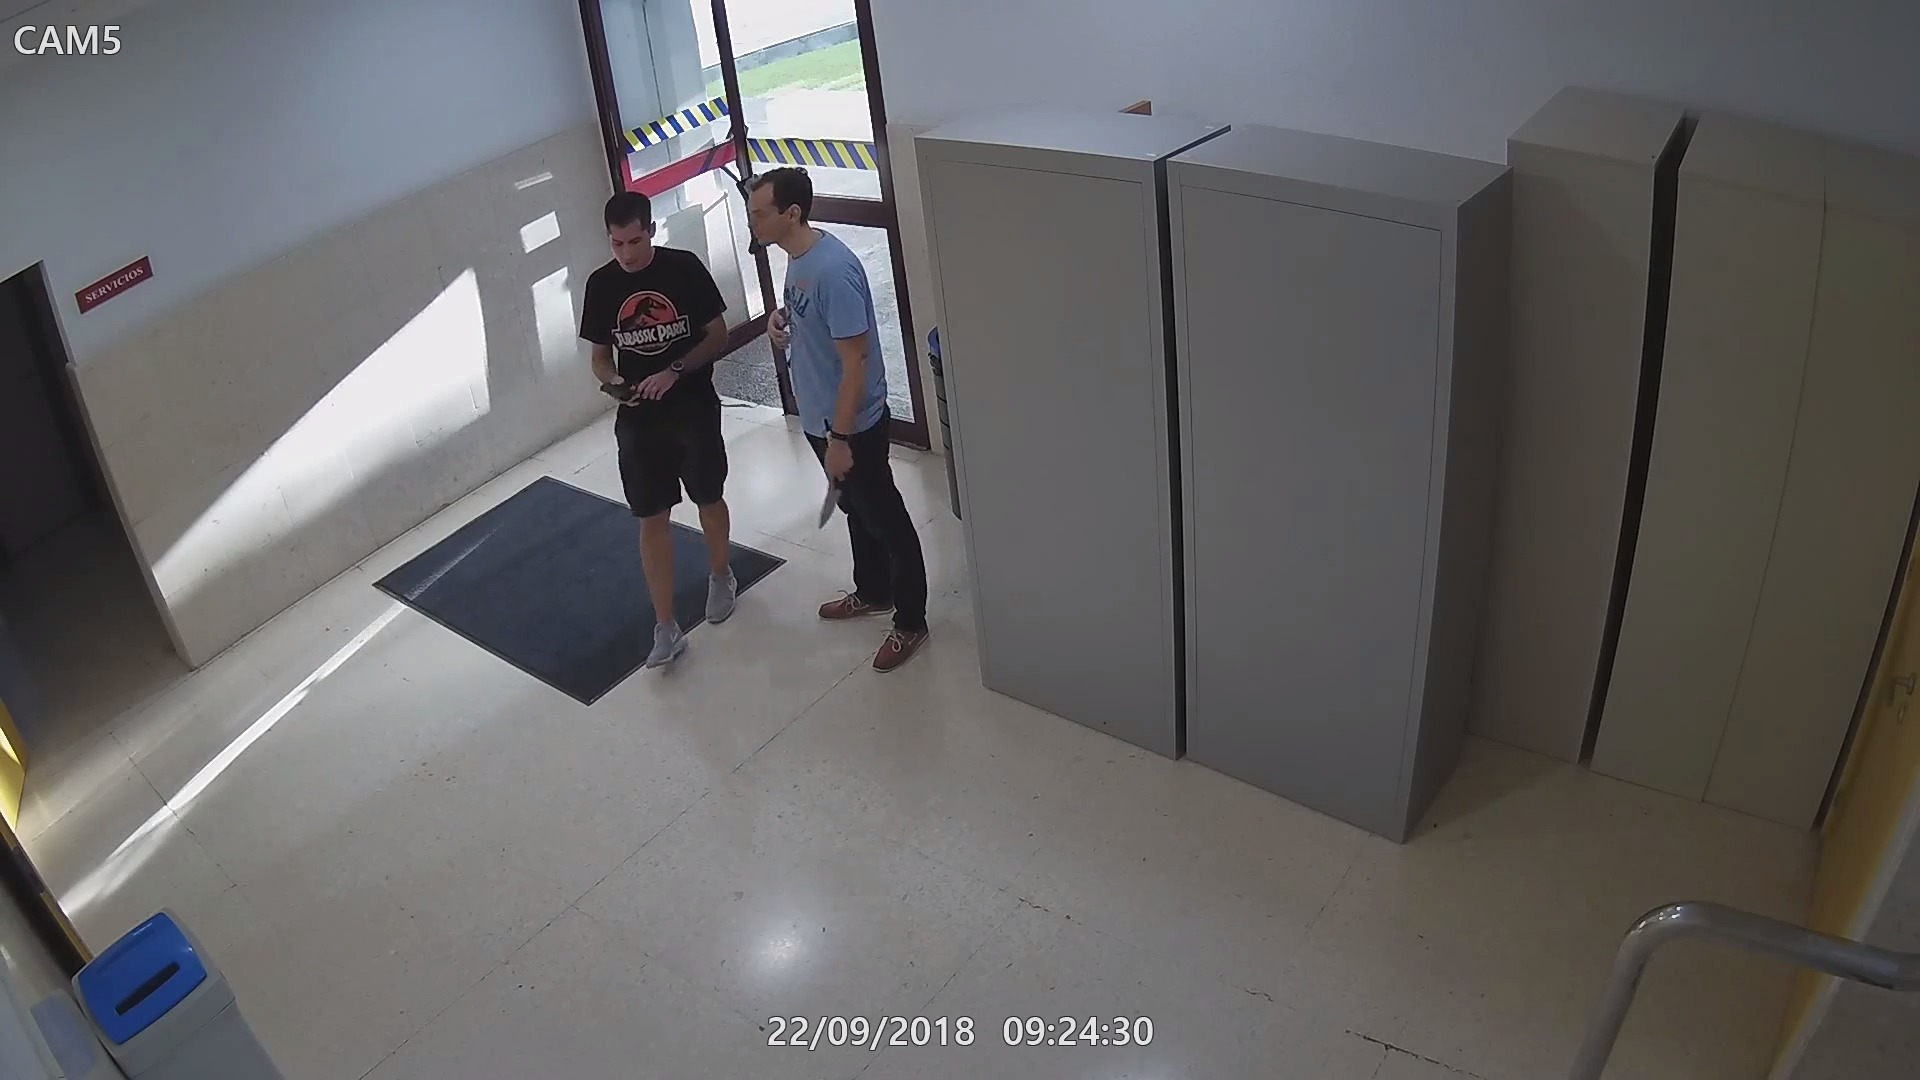Handgun: (595, 378, 667, 411)
Knife: (814, 434, 852, 534)
